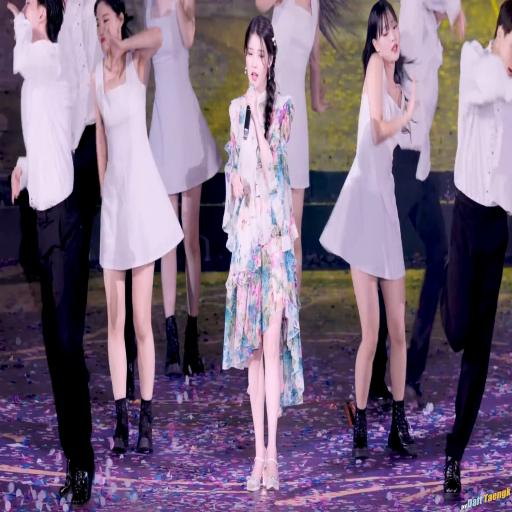IU: (243, 16, 276, 88)
